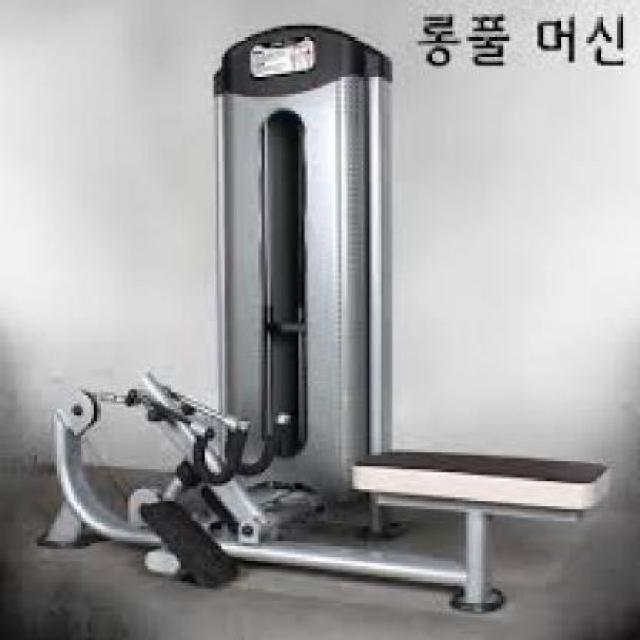Seated Cable Rows: (40, 20, 622, 622)
